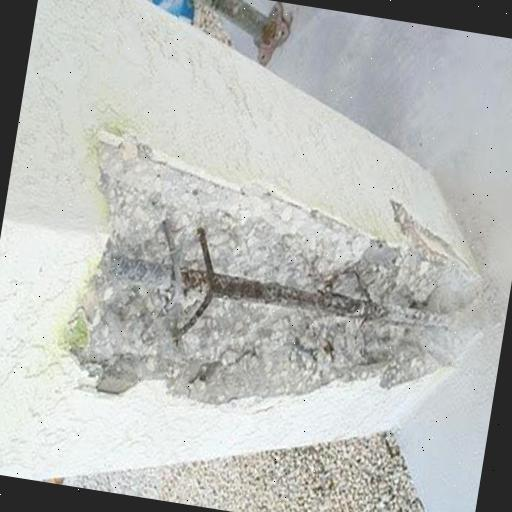spalling: (67, 134, 485, 396)
